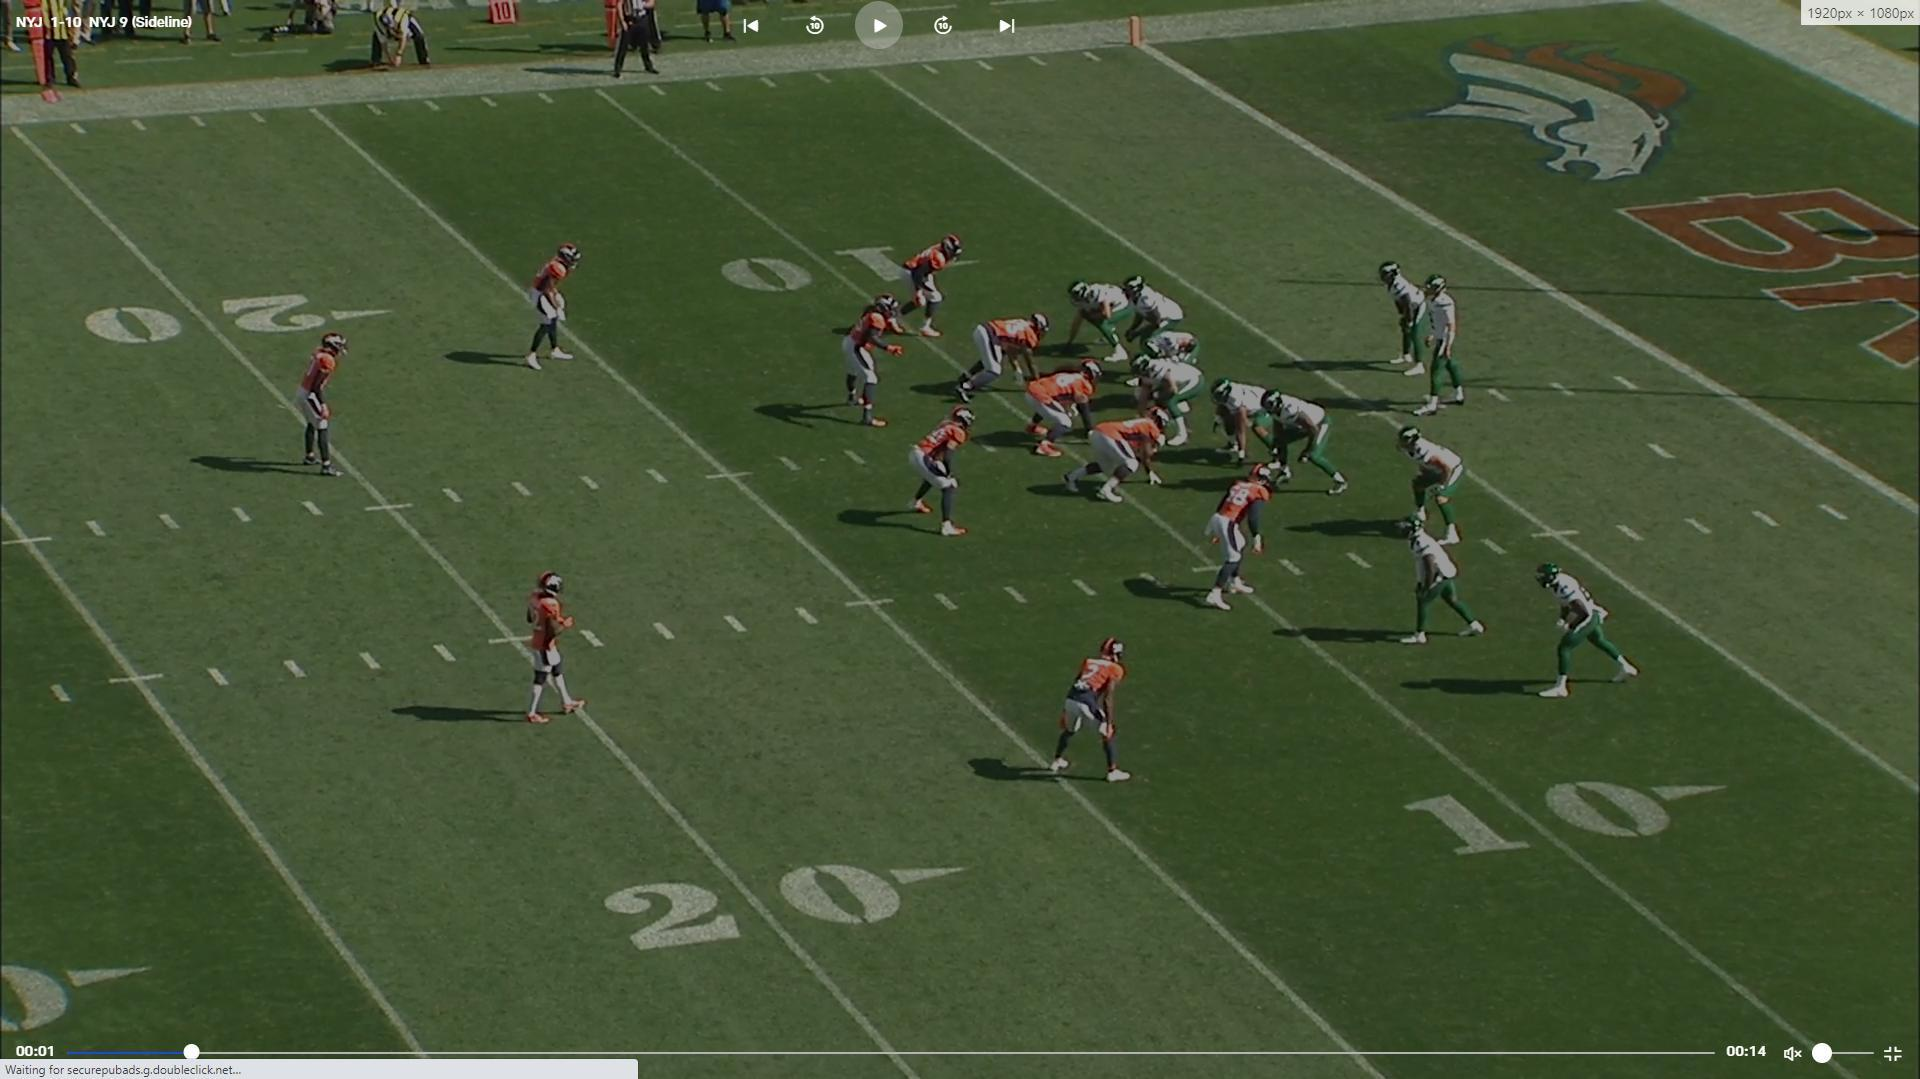defense: (1042, 633, 1138, 795), (527, 565, 597, 733), (1205, 464, 1274, 611), (520, 231, 588, 373), (286, 326, 348, 481), (1063, 414, 1167, 507), (952, 313, 1051, 406), (911, 406, 977, 543), (841, 292, 901, 431), (1025, 363, 1102, 460), (902, 233, 968, 346)
oline: (1254, 390, 1349, 500), (1137, 356, 1207, 447), (1215, 373, 1286, 459), (1118, 280, 1187, 364), (1137, 328, 1204, 369)
qb: (1420, 272, 1472, 417)
ref: (608, 1, 666, 86)
skill: (1538, 558, 1647, 700), (1403, 521, 1493, 650), (1402, 427, 1476, 553), (1063, 276, 1137, 360), (1379, 259, 1429, 379)
